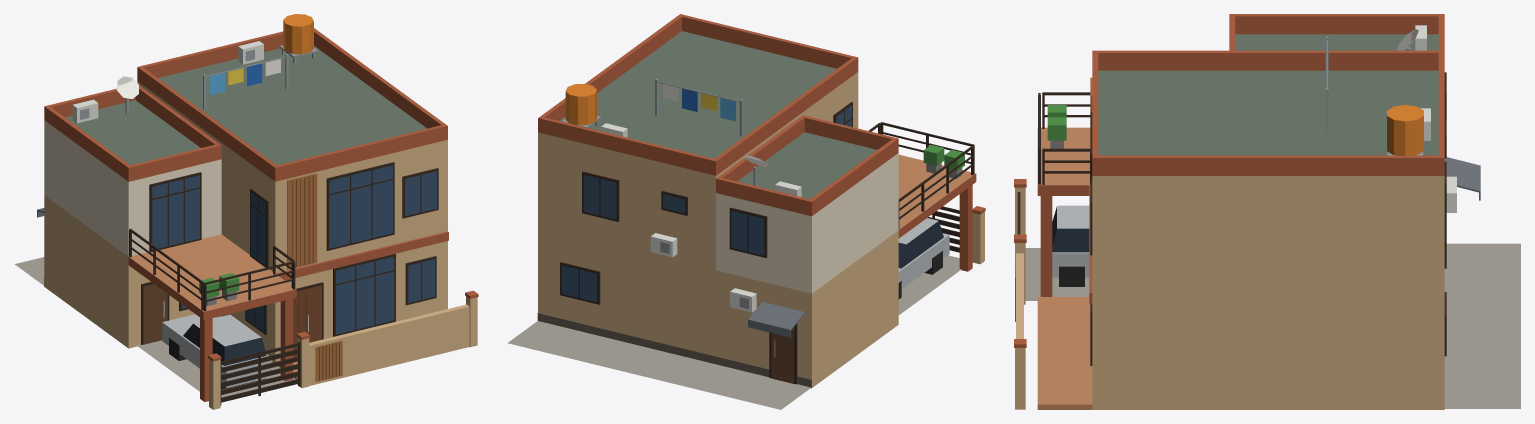
The model's file is rumah2_04.glb.
3 views of the same model, side by side, from view 1: azimuth 30°, elevation 25°; view 2: azimuth 150°, elevation 25°; view 3: azimuth 270°, elevation 25° (orthographic). The views are drawn at different scales.
Parts seen in each view (by area): view 1: rumah2_04; view 2: rumah2_04; view 3: rumah2_04.
Boxes of the visible parts, left/top/right/bottom form: rumah2_04: left=15, top=14, right=478, bottom=409; rumah2_04: left=507, top=14, right=985, bottom=409; rumah2_04: left=1014, top=14, right=1520, bottom=409.
Bounding box in the file's own units: 10 × 7.9 × 12.95.
